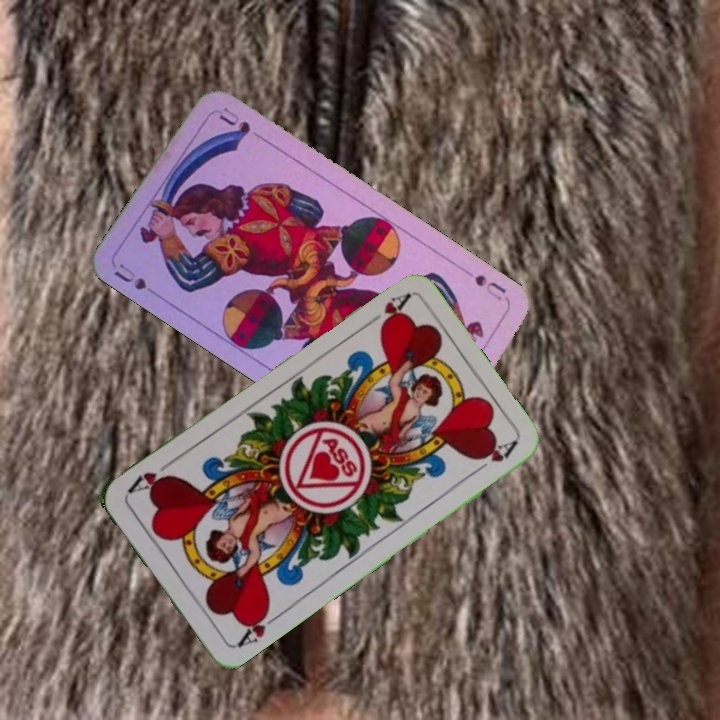HA: (232, 602, 283, 651), (360, 290, 412, 330)
SU: (109, 259, 165, 300), (470, 270, 509, 303)
